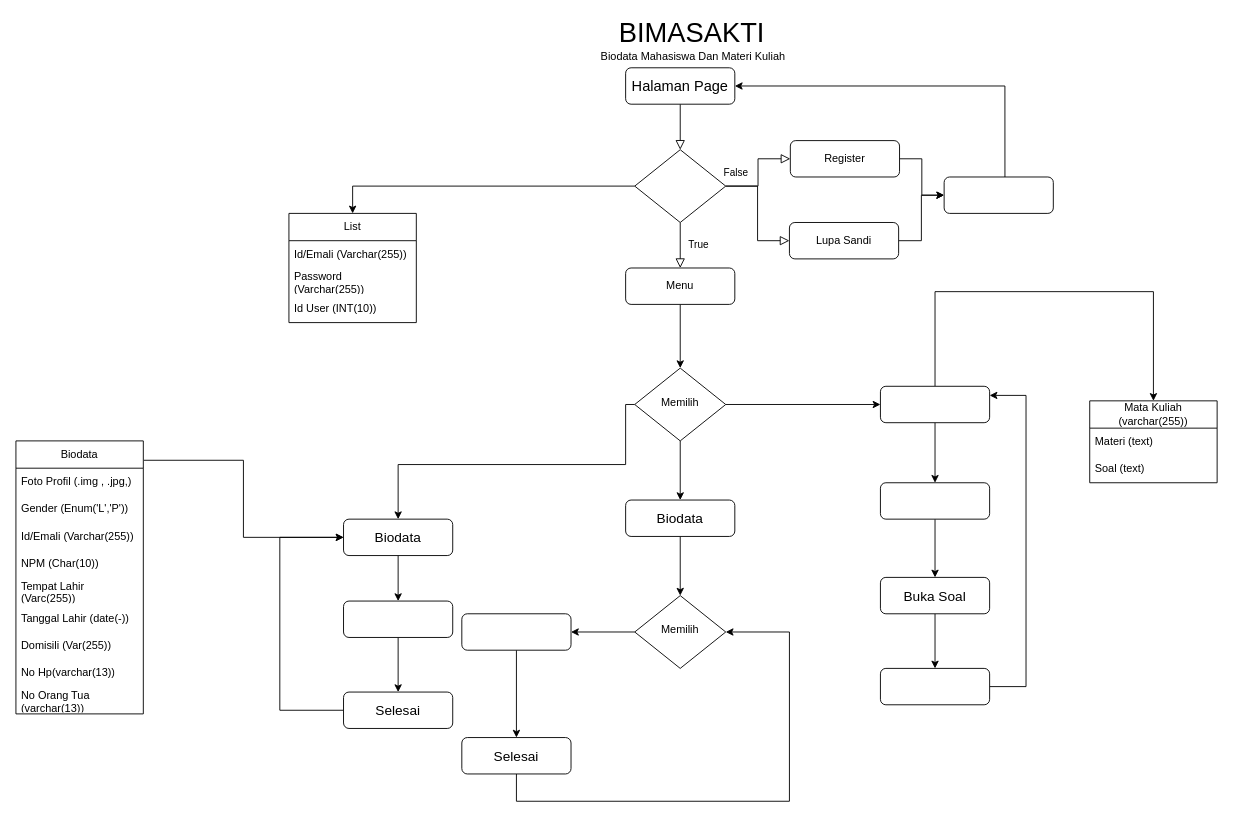
Image size: 1233x824. Some labels were removed from this diagram. Here are the shapes that lost their labels. From the top down, the centre of each, then its label:
the point at 680,185: Login
the point at 998,194: Verifikasi
the point at 935,404: Menu Pemilihan Mata Kuliah
the point at 935,500: Bank Materi
the point at 398,618: Edit Biodata
the point at 516,631: Mencari Biodata
the point at 935,686: Selesai / Button
